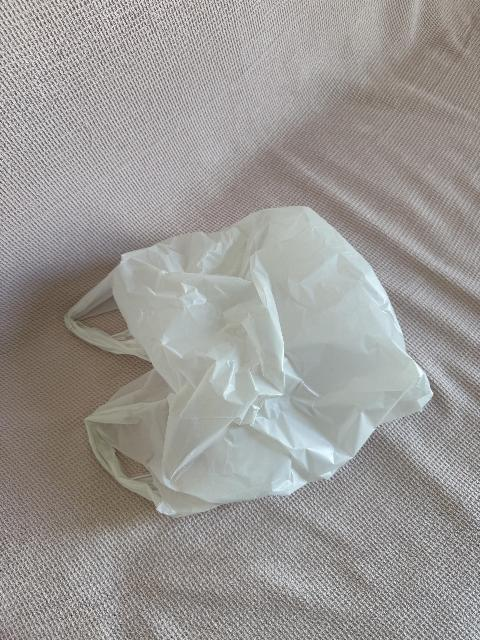Plastik: (71, 212, 436, 509)
